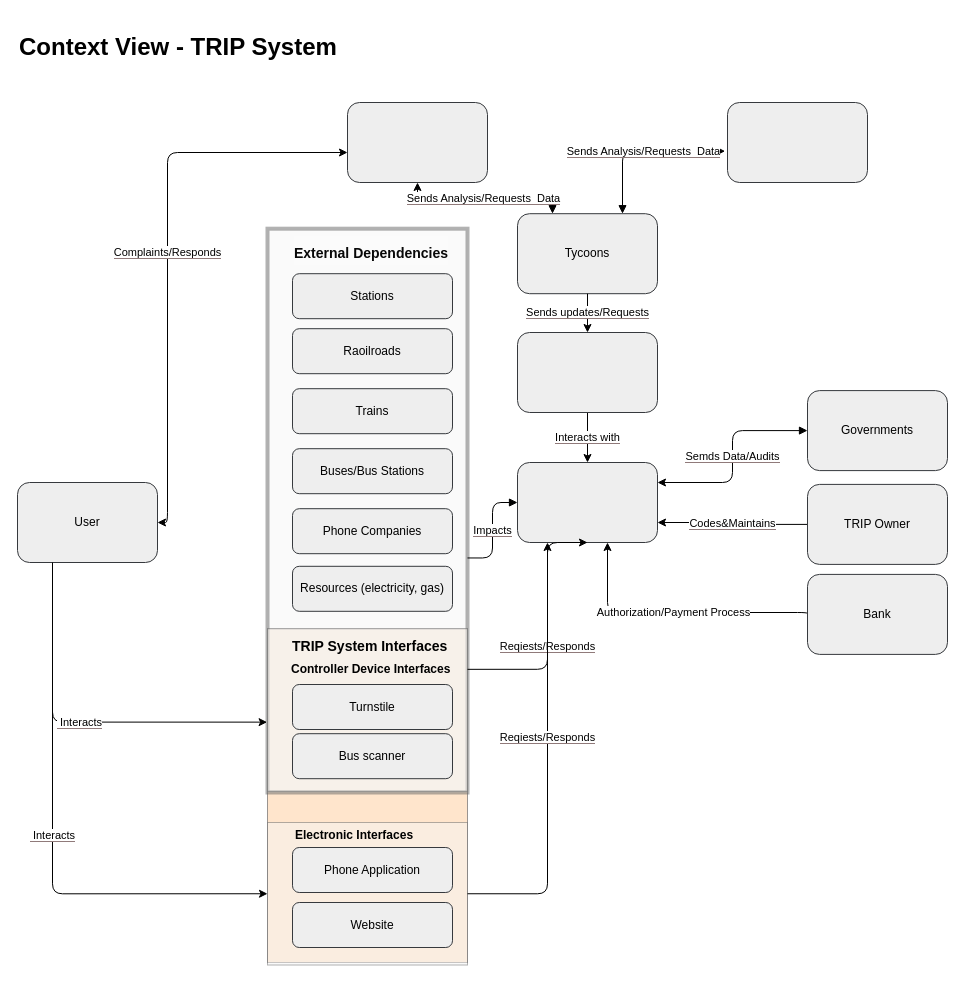
Image size: 965x983. Some labels were removed from this diagram. The shapes that lost their labels are listed below. From the top down, each one's centre as x and y in pixels, then its label:
At (417,142): "Customer Service".
At (797,142): "Financial Analysts".
At (587,372): "Tycoon API".
At (587,502): "TRIP System".
